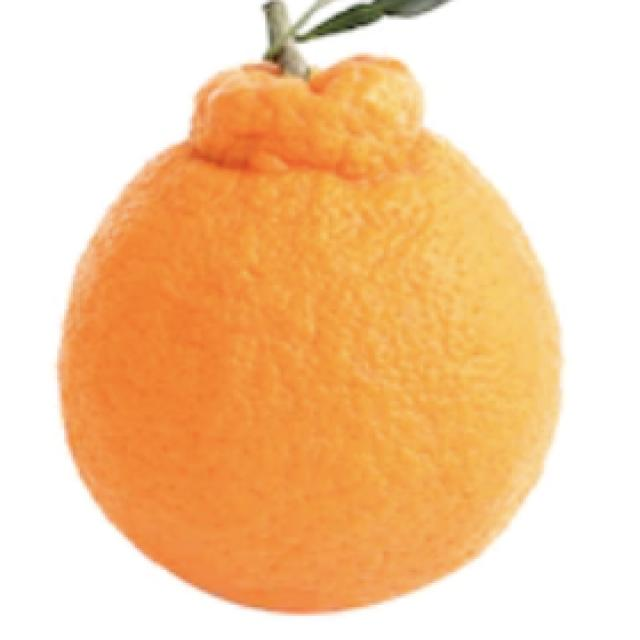orange: (51, 40, 576, 624)
